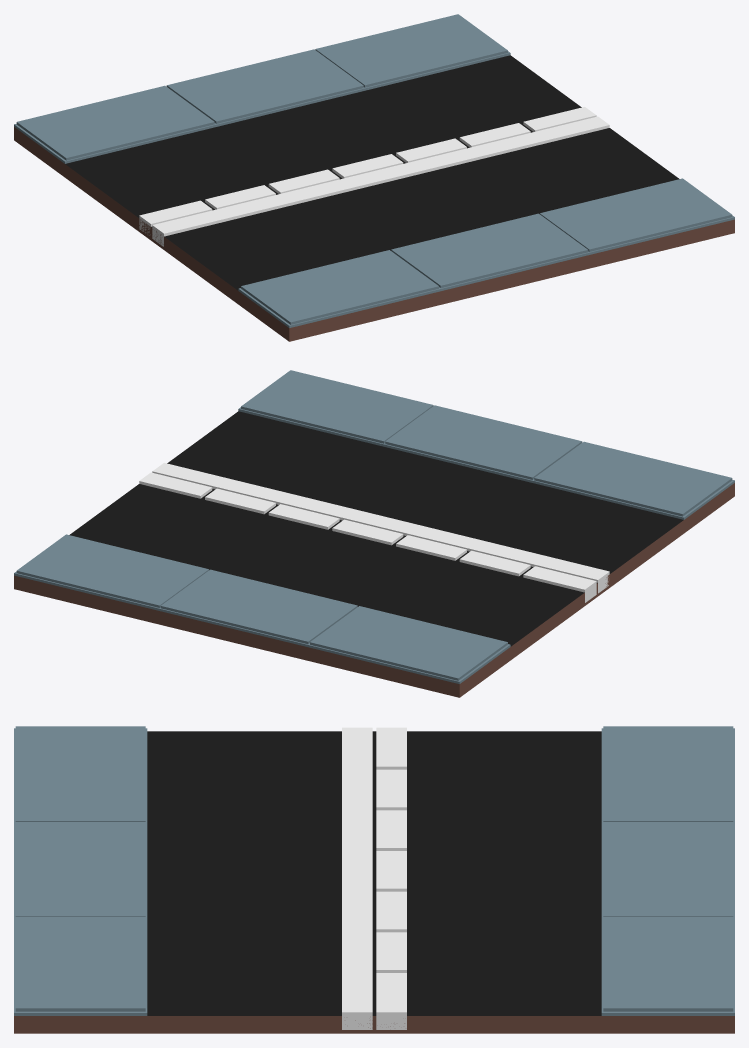
File: Road_Straight_01.obj
3 views of the same model, one above another, from view 1: azimuth 30°, elevation 25°; view 2: azimuth 150°, elevation 25°; view 3: azimuth 270°, elevation 25° (orthographic). The views are drawn at different scales.
Visible parts, largest first — view 1: Cube_Cube.033; view 2: Cube_Cube.033; view 3: Cube_Cube.033.
Part boxes in pixels (<box>): Cube_Cube.033: <box>14,14,734,341</box>; Cube_Cube.033: <box>14,370,734,697</box>; Cube_Cube.033: <box>14,726,734,1033</box>.
Bounding box in the file's own units: 19 × 0.7515 × 20.33.
